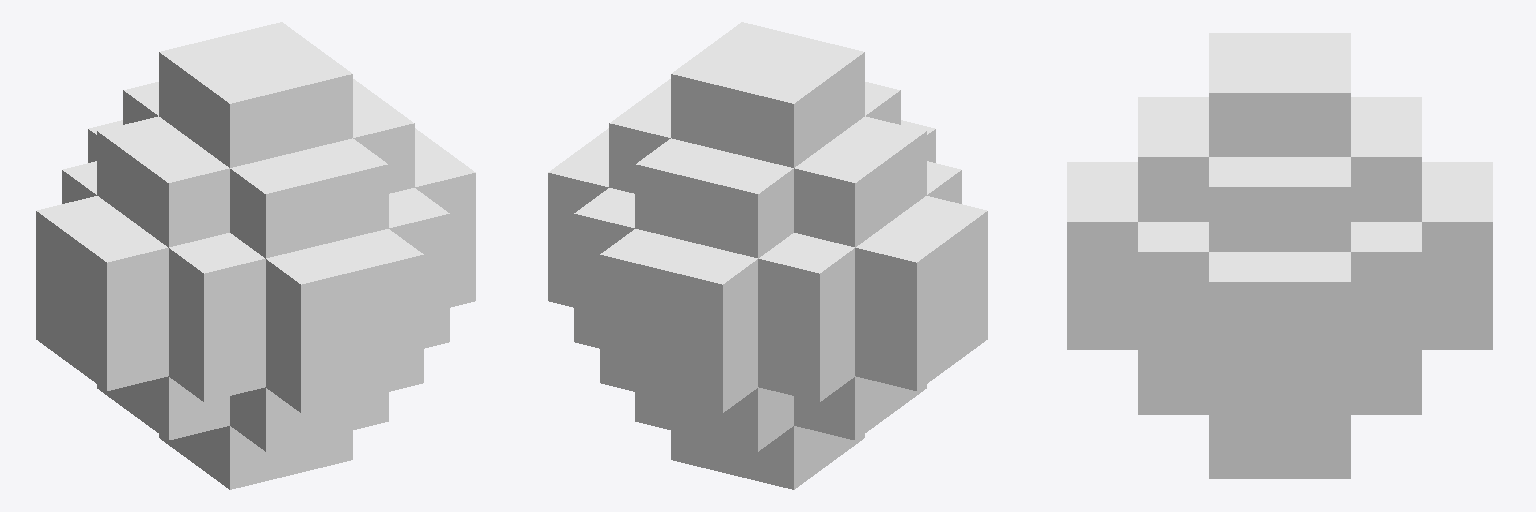
Rendered from game-0.obj.
The picture shows the model from 3 angles: view 1: azimuth 30°, elevation 25°; view 2: azimuth 150°, elevation 25°; view 3: azimuth 270°, elevation 25°; orthographic projection.
Parts seen in each view (by area): view 1: object 1; view 2: object 1; view 3: object 1.
Boxes of the visible parts, x1=… form: object 1: x1=36, y1=22, x2=475, y2=489; object 1: x1=548, y1=22, x2=987, y2=489; object 1: x1=1067, y1=33, x2=1492, y2=478.
Bounding box in the file's own units: 0.6 × 0.6 × 0.6.